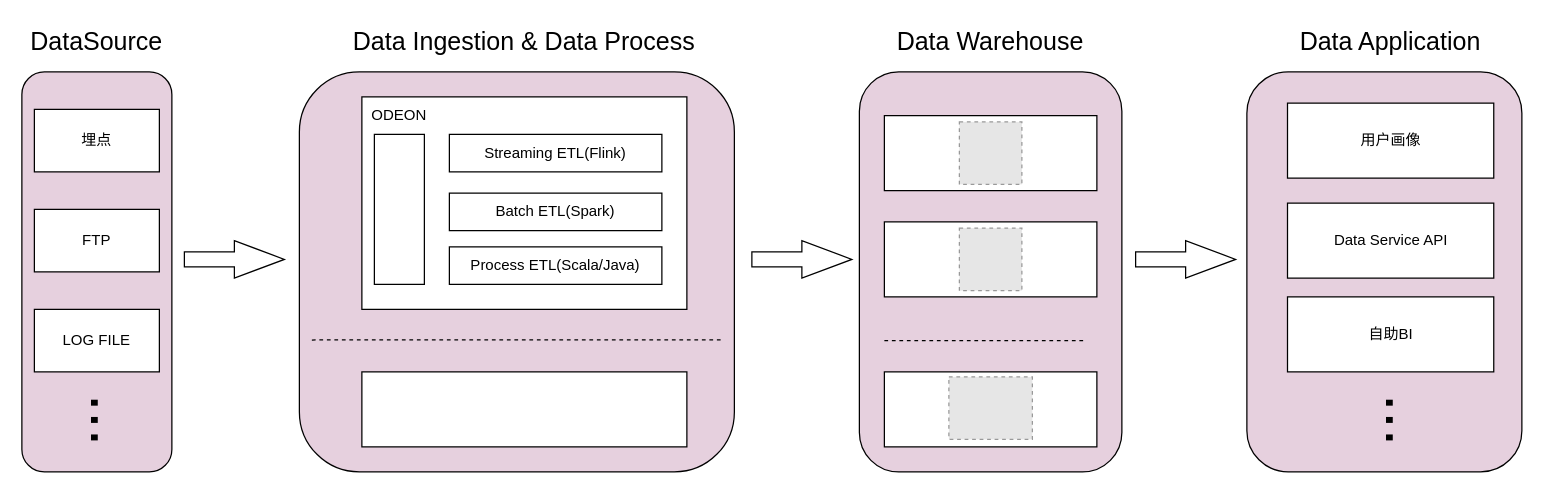
Some shapes in this 1544 by 494 pixel diagram are drawn without their labels. Grey dashed boxes stand in for pictures. The shapes that lost their labels are listed below. From the top down, each one's centre as x and y in pixels, then its label:
(x=398, y=208): ETL
(x=524, y=409): Data Ingestion Assembly
